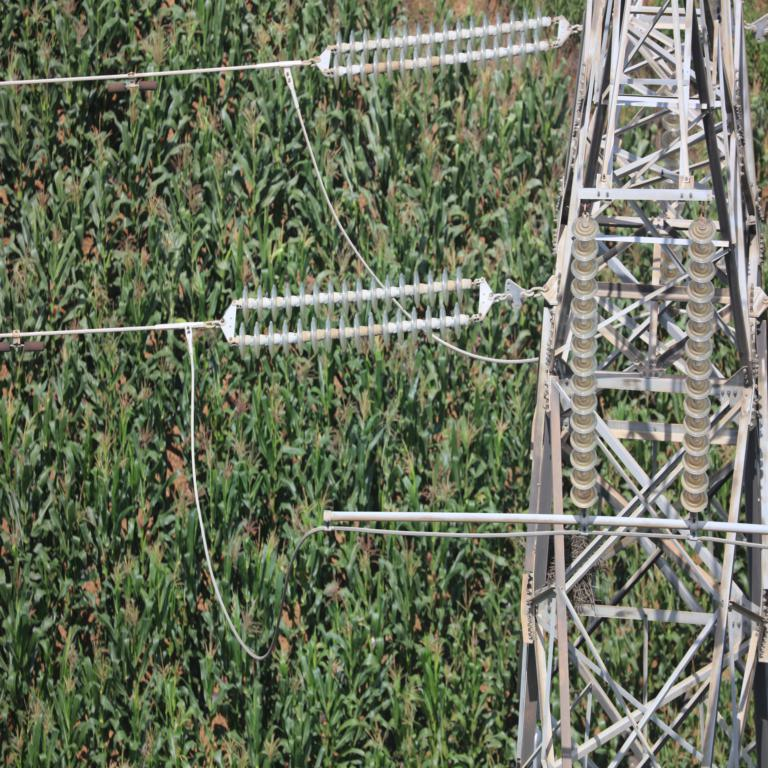nest: (545, 535, 595, 613)
